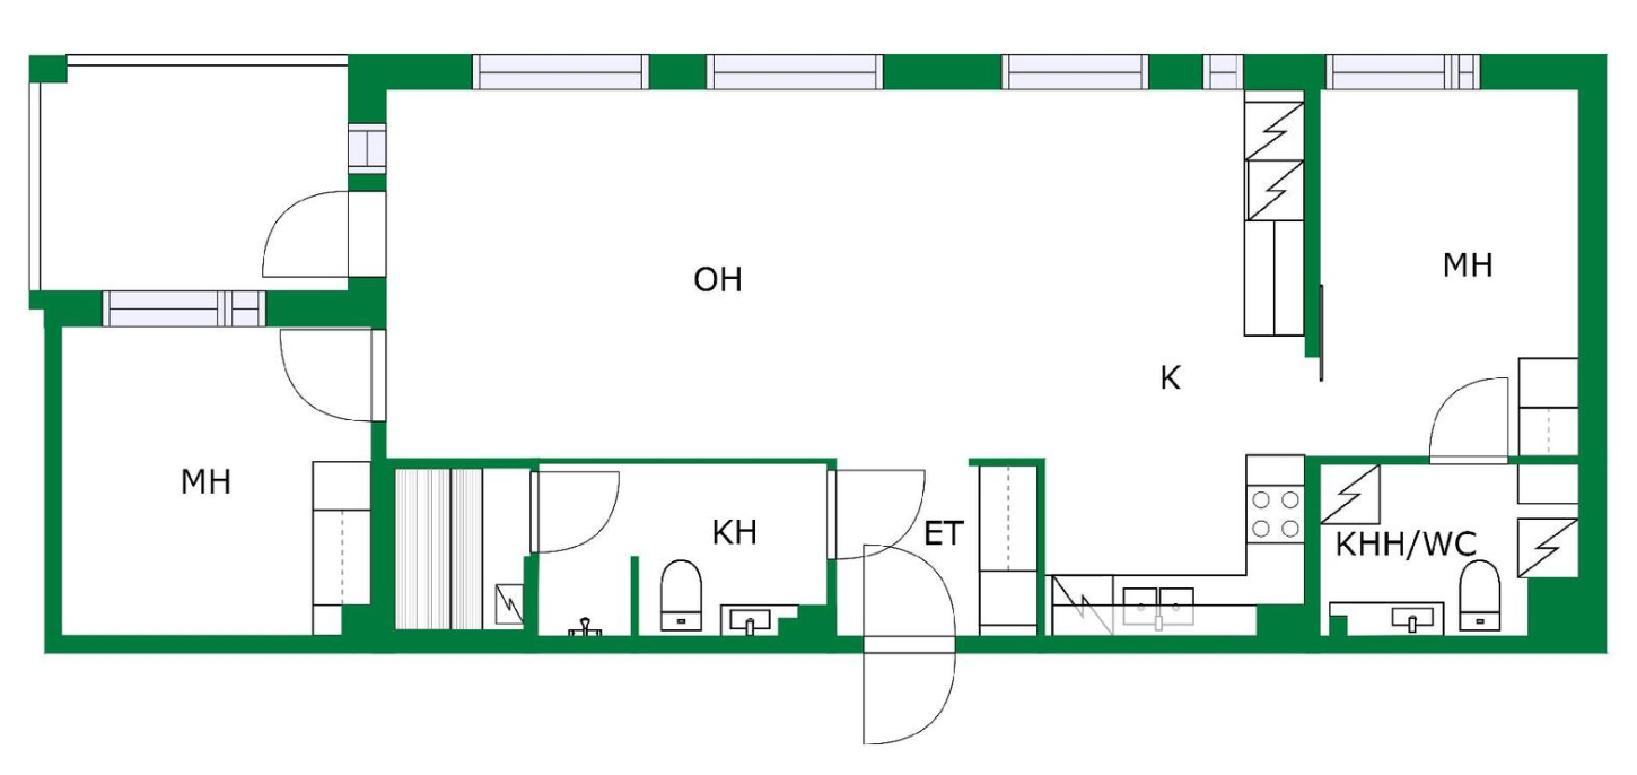door: (857, 537, 956, 751), (812, 465, 933, 558), (286, 323, 386, 428), (1421, 358, 1511, 471), (253, 191, 356, 282), (526, 469, 623, 558)
window: (104, 287, 264, 330), (704, 52, 885, 90), (470, 54, 650, 87), (999, 51, 1147, 89), (1324, 53, 1480, 85), (349, 122, 387, 174), (1201, 52, 1243, 91)
zone: (386, 87, 1301, 647), (1310, 87, 1584, 462), (58, 329, 367, 640), (32, 61, 347, 296), (536, 461, 824, 633), (1320, 457, 1592, 639), (833, 464, 1036, 643), (396, 466, 528, 629)
